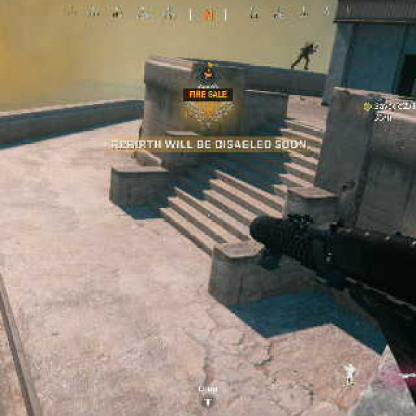enemy: (291, 39, 319, 71)
